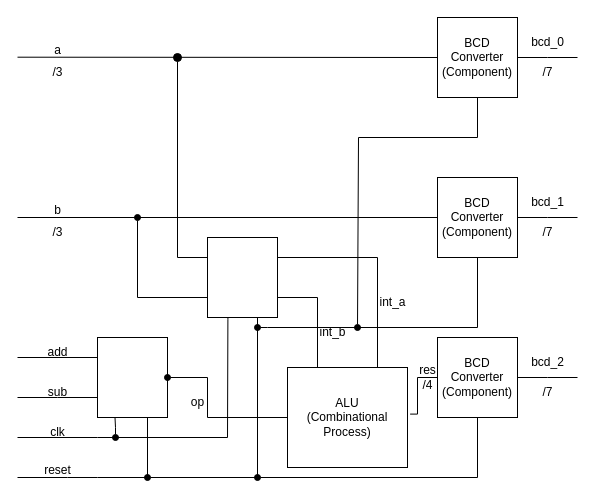
Image size: 596x503. Some labels were removed from this diagram. Each missing label, with the box of its shape:
Syncronizer (FSM Process): (96, 336, 168, 418)
Syncronizer (Process): (206, 236, 278, 318)
